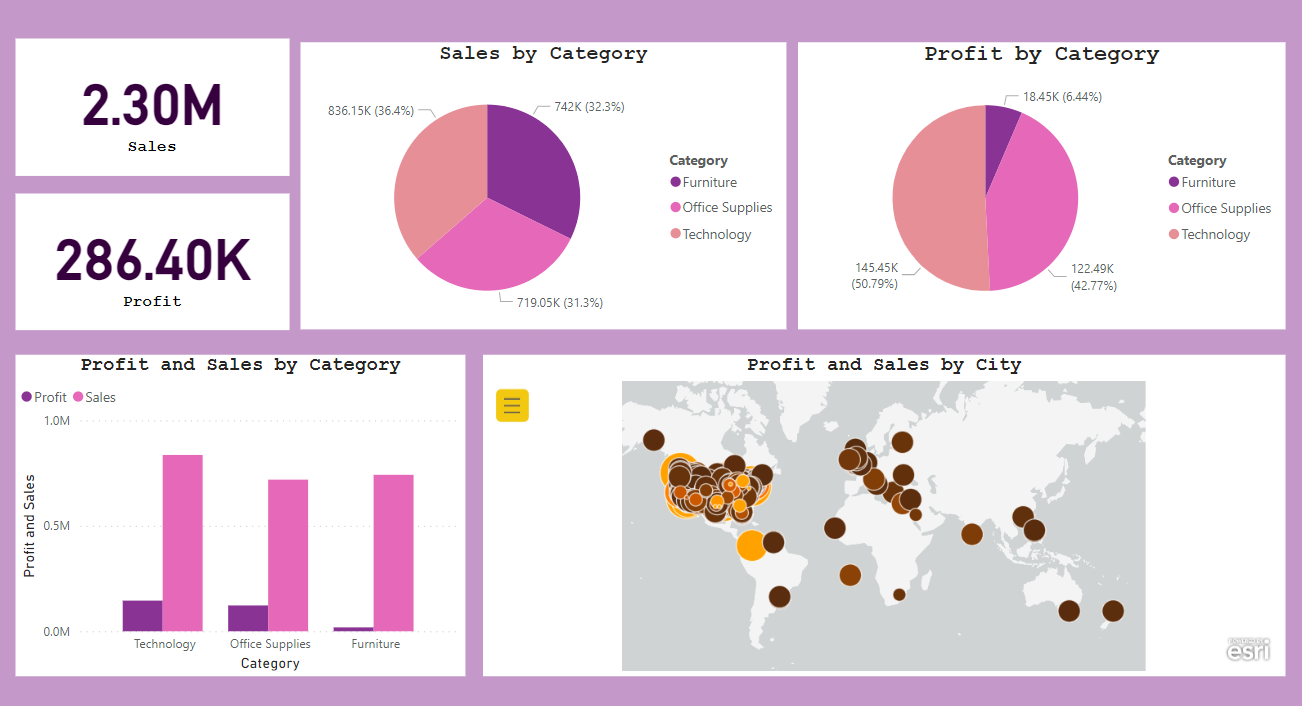

Layout of this report page (visuals, bound fields, positions):
{"tool":"powerbi","page":{"name":"Page 1","canvas":[1280,720],"ordinal":0},"visuals":[{"type":"card","title":"Total Sales","fields":{"Values":["Sum(Orders.Sales)"]},"box":[17.1,51.3,267.7,134.5],"z":0},{"type":"card","fields":{"Values":["Sum(Orders.Profit)"]},"box":[17.1,202.9,267.7,133.2],"z":1000},{"type":"pieChart","fields":{"Y":["Sum(Orders.Sales)"],"Series":["Orders.Category"]},"box":[295.8,55,475.5,281.2],"z":2000},{"type":"pieChart","fields":{"Y":["Sum(Orders.Profit)"],"Series":["Orders.Category"]},"box":[782.3,55,476.7,281.2],"z":3000},{"type":"clusteredColumnChart","fields":{"Y":["Sum(Orders.Profit)","Sum(Orders.Sales)"],"Category":["Orders.Category"]},"box":[17.1,360.6,440.1,314.2],"z":4000},{"type":"esriVisual","fields":{"Size":["Sum(Orders.Profit)"],"Color":["Sum(Orders.Sales)"],"Location":["Orders.City"]},"box":[474.3,360.6,784.8,314.2],"z":5000}]}

Visuals, with their boxes in screenshot pixels (x1, y1, x2, y2):
"Total Sales" card: bbox=(17, 41, 285, 176)
card - Sum(Orders.Profit): bbox=(17, 193, 285, 326)
pieChart - Sum(Orders.Sales) x Orders.Category: bbox=(296, 45, 772, 327)
pieChart - Sum(Orders.Profit) x Orders.Category: bbox=(783, 45, 1261, 327)
clusteredColumnChart - Sum(Orders.Profit) x Sum(Orders.Sales): bbox=(17, 351, 458, 666)
esriVisual - Sum(Orders.Profit) x Sum(Orders.Sales): bbox=(475, 351, 1261, 666)
